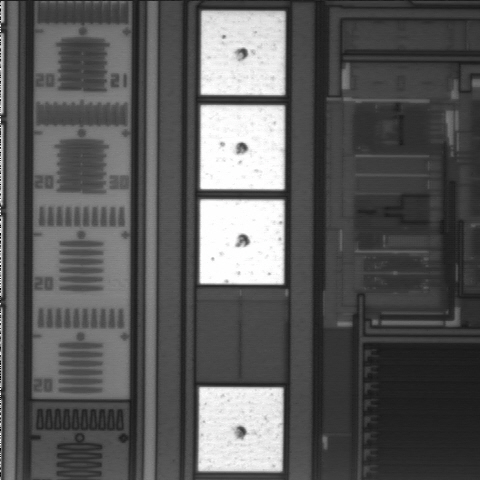pad: (200, 105, 285, 190), (198, 387, 283, 472), (200, 199, 284, 284), (201, 11, 285, 95)
